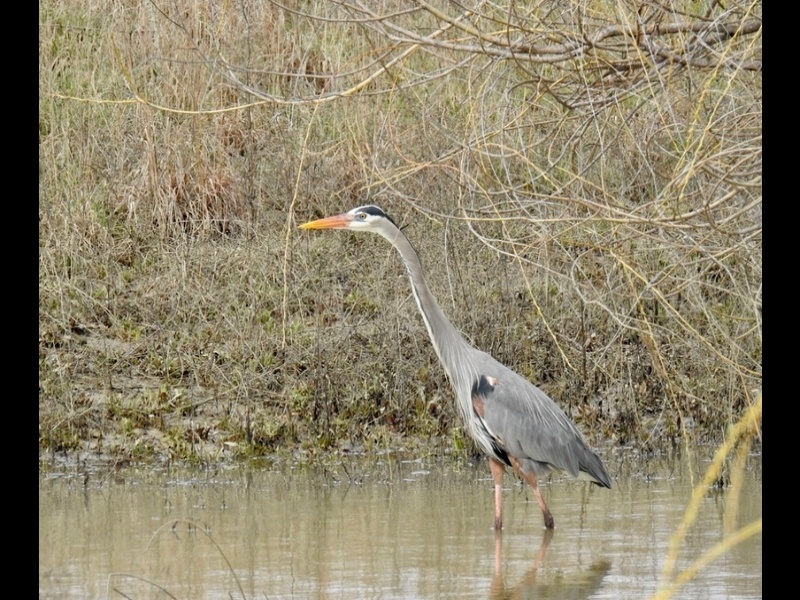heron: (299, 202, 612, 527)
